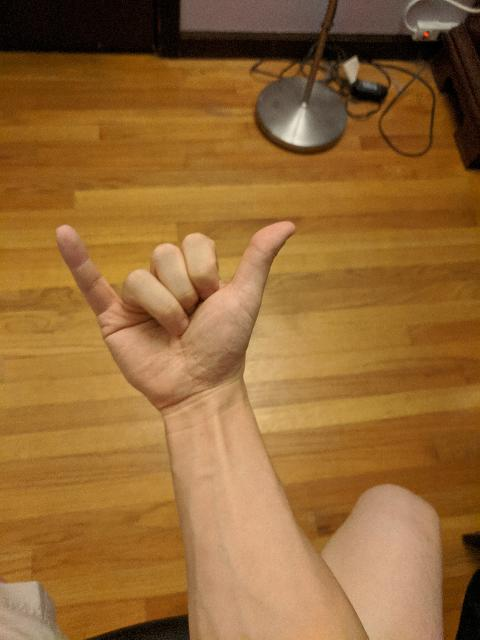Y: (49, 218, 300, 414)
